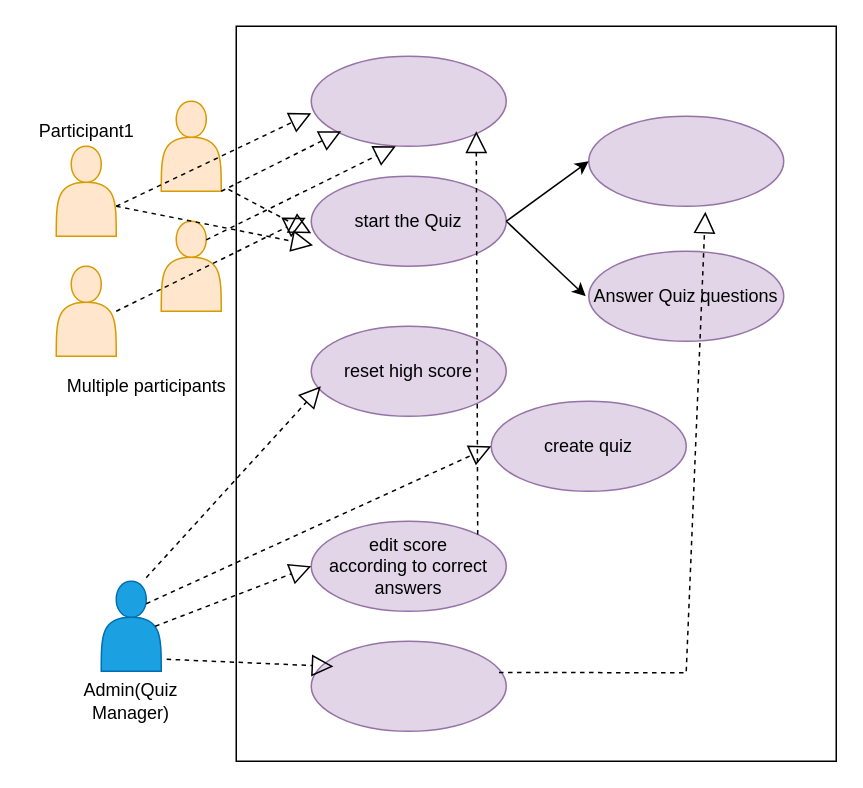
Some shapes in this 863 by 788 pixel diagram are drawn without their labels. The shapes that lost their labels are listed below. From the top down, each one's centre as x and y in pixels, then its label:
At (x=408, y=100): "show score".
At (x=685, y=160): "help".
At (x=408, y=685): "Creating help menu instructions".
